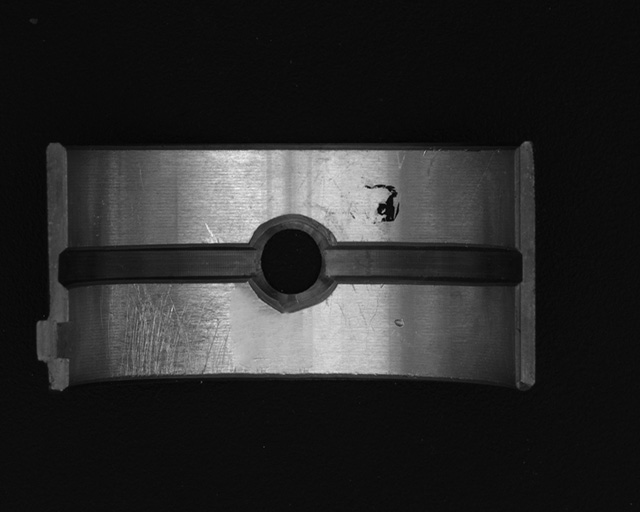blot: (362, 181, 402, 227)
bruise: (394, 318, 405, 328)
gap: (323, 241, 525, 290), (56, 245, 258, 286)
hole: (245, 216, 335, 311)
nick: (203, 222, 220, 244)
scratch: (95, 282, 239, 378)
